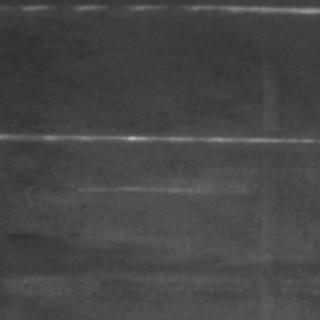scratches: (1, 125, 316, 149)
